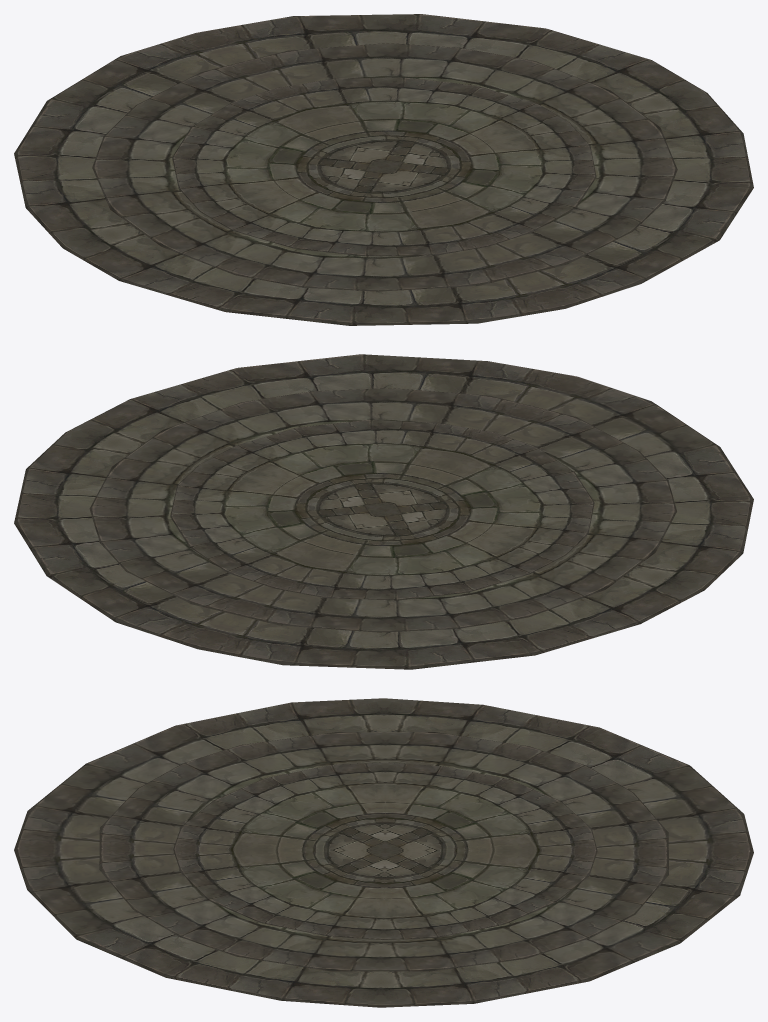
Rendered from BD_DungeonHall02.FBX.
3 views of the same model, one above another, from view 1: azimuth 30°, elevation 25°; view 2: azimuth 150°, elevation 25°; view 3: azimuth 270°, elevation 25° (orthographic).
Parts seen in each view (by area): view 1: BD_DungeonHall02; view 2: BD_DungeonHall02; view 3: BD_DungeonHall02.
Boxes of the visible parts, x1,y1,x2,y2 form: BD_DungeonHall02: (14,14,753,325); BD_DungeonHall02: (14,354,753,669); BD_DungeonHall02: (14,698,753,1007).
Size of the model in its own units: 3796 by 15.73 by 3837.
